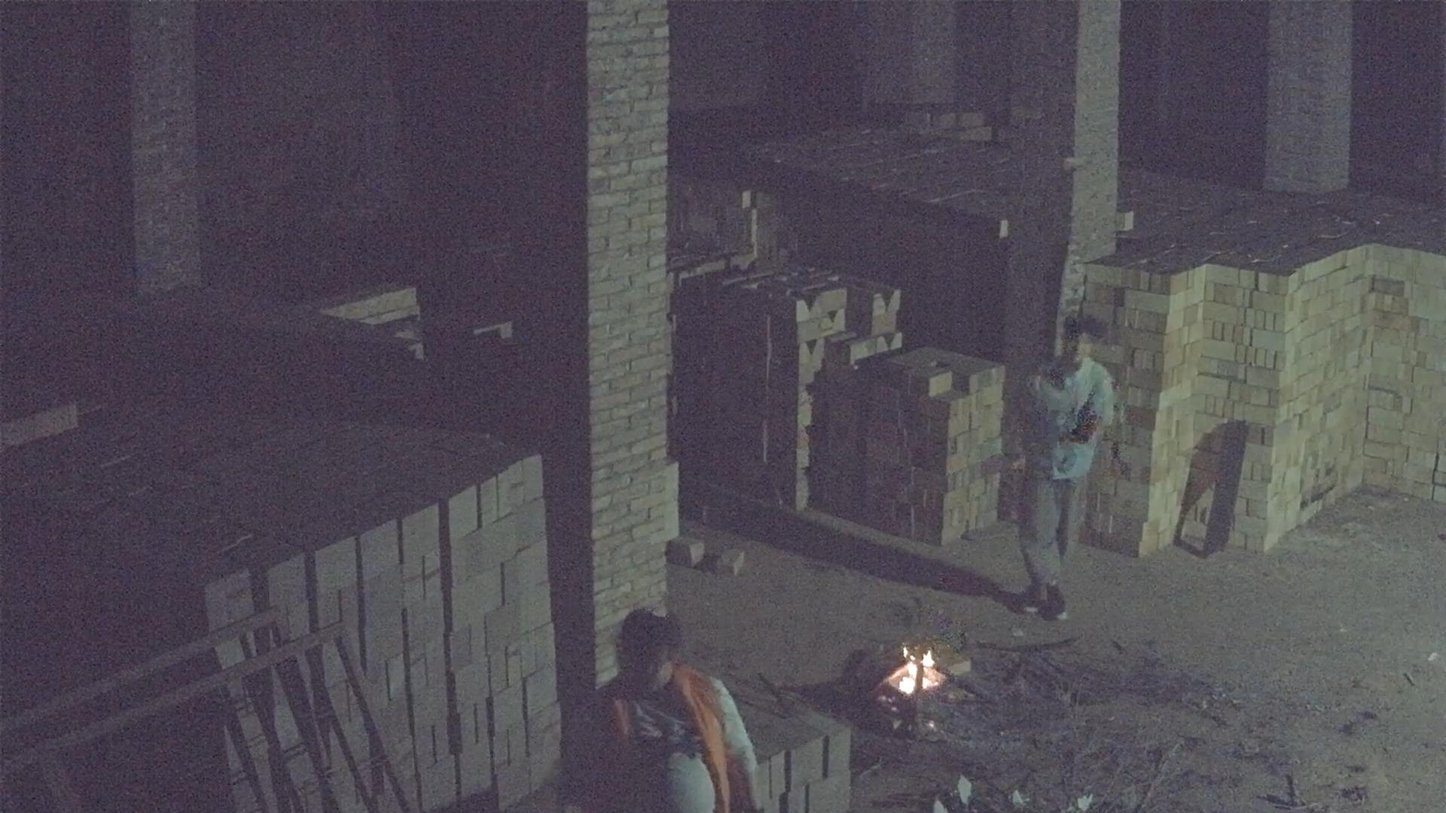fire: (887, 642, 969, 696)
